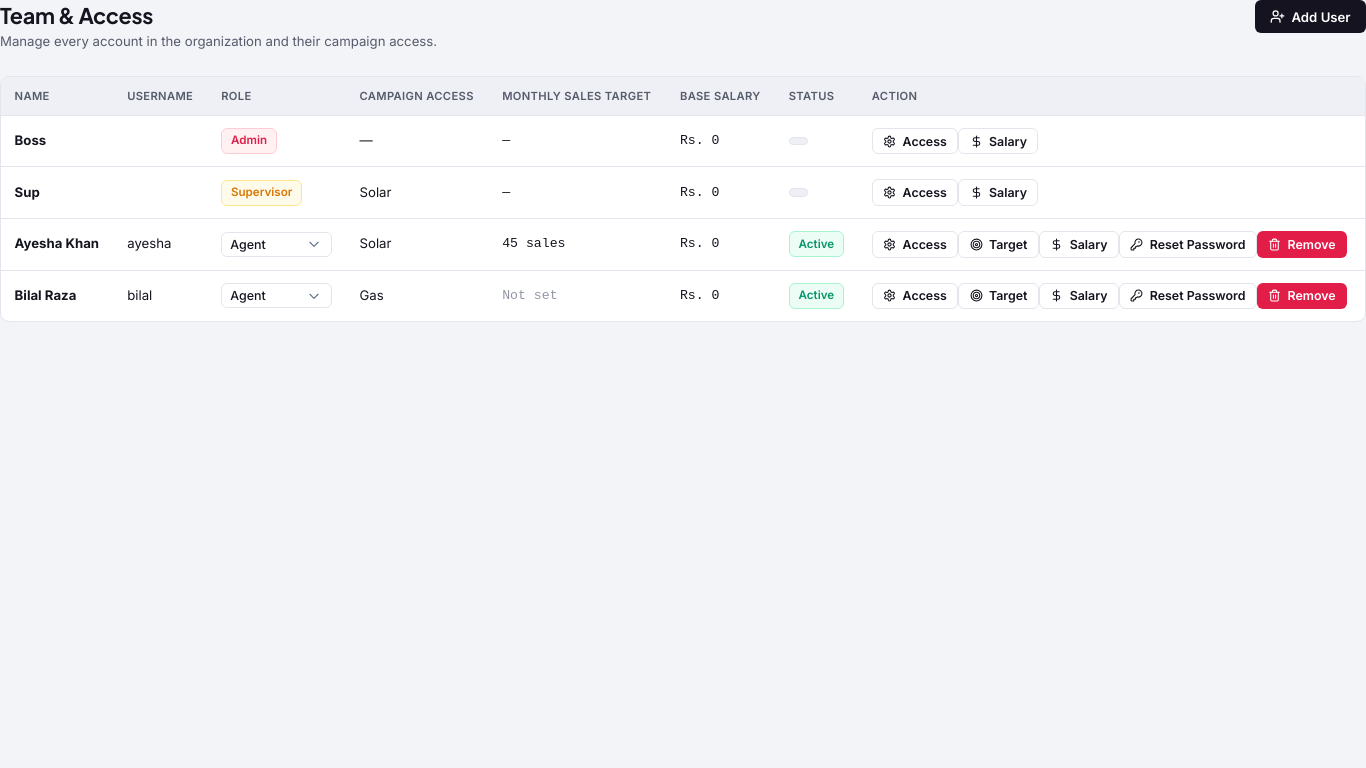
Test case: TeamManagement sales targets › surfaces a server error and keeps the modal open
Click the button "Target" in the row of "Ayesha Khan" at coordinates (999, 244), box 958,231 -> 1039,258
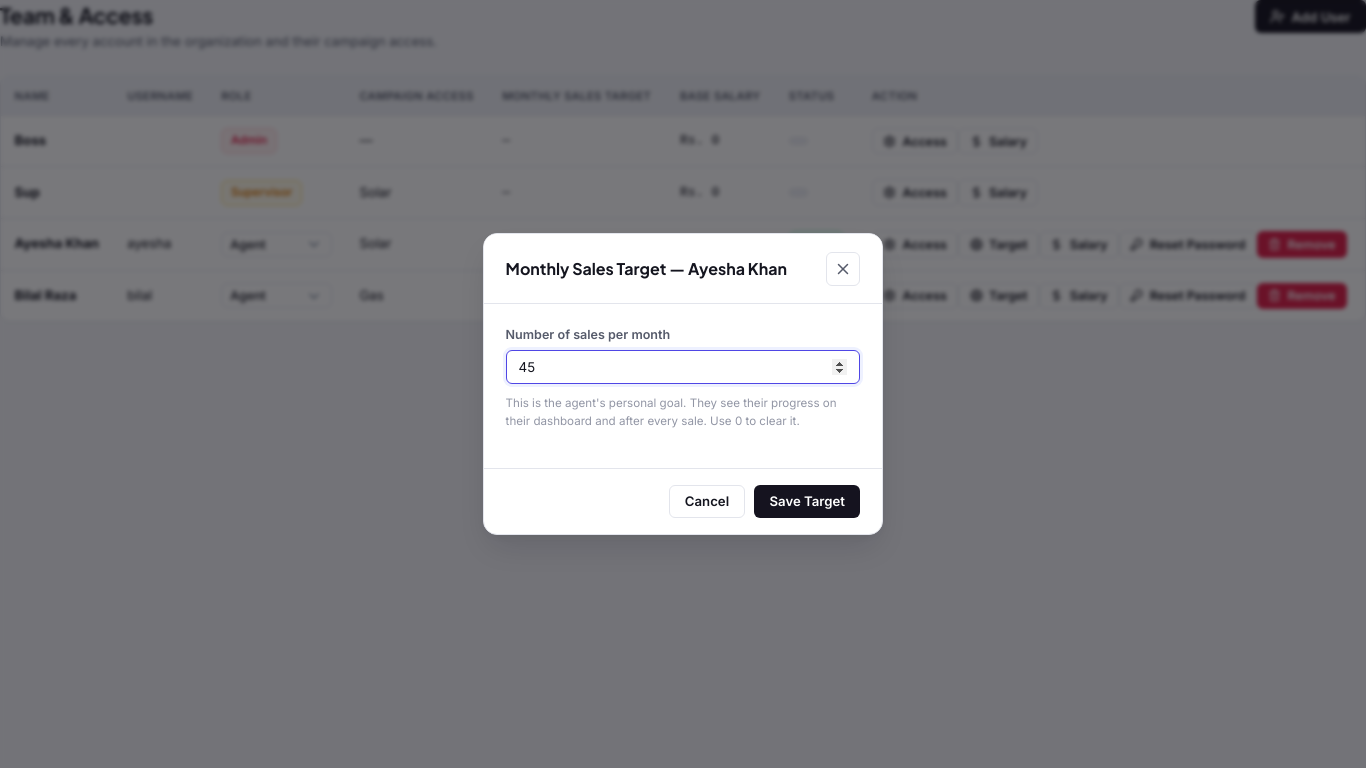
Click the button "Save Target" at coordinates (807, 501), box 754,485 -> 860,518
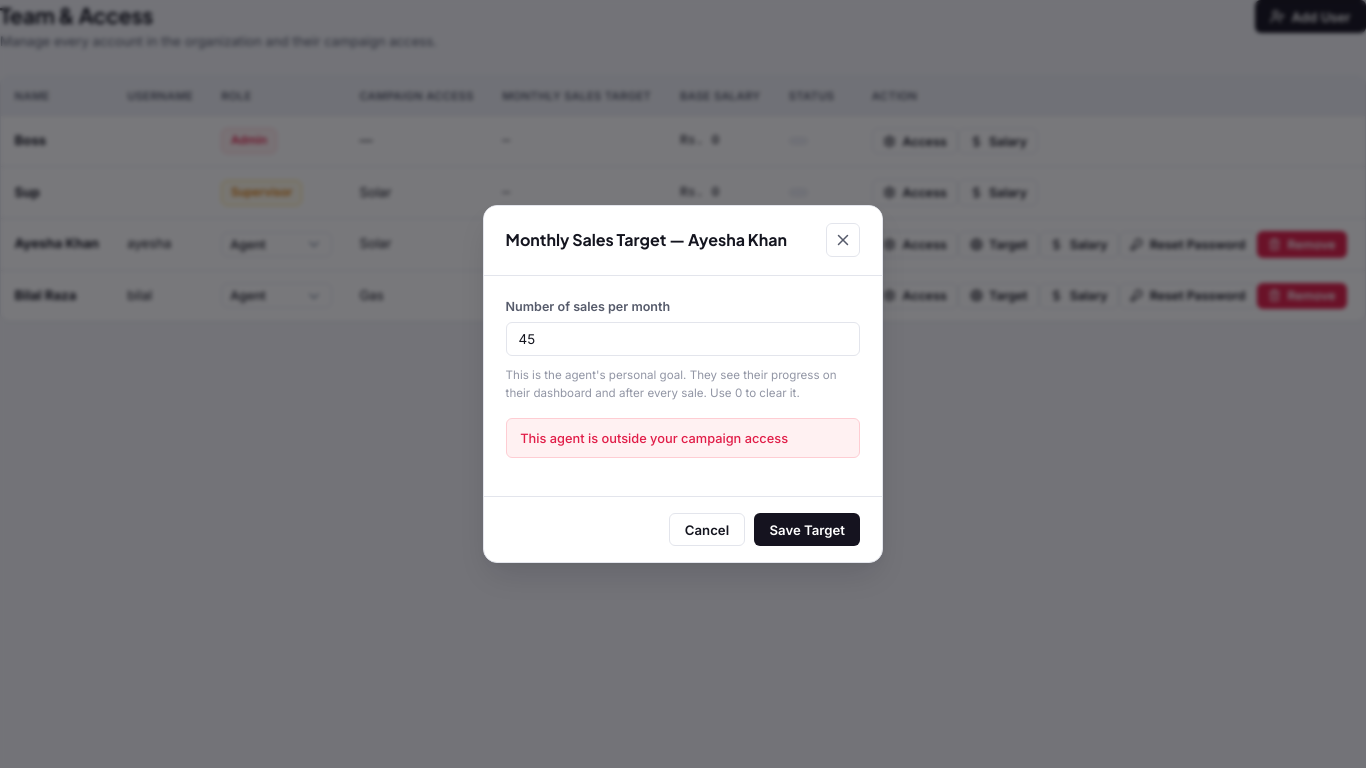
Expected: the number field labelled "Number of sales per month" is shown, 506,322 -> 860,356
Expected: the text "This agent is outside your campaign access" is shown, 506,418 -> 860,458
